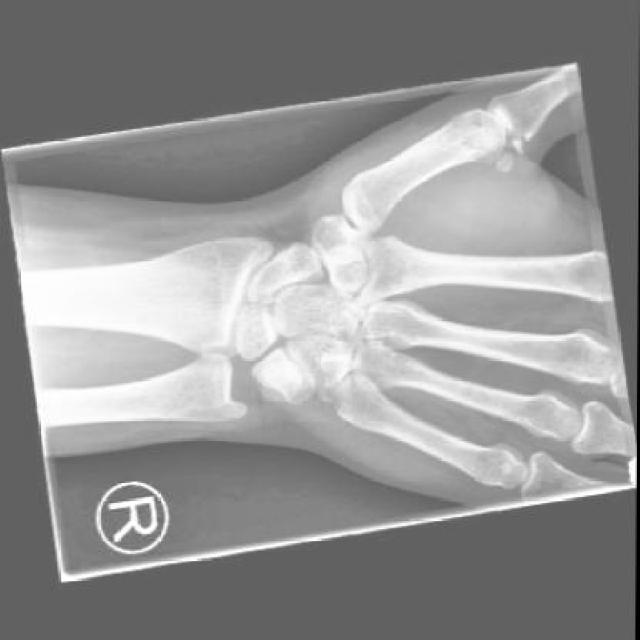Fracture: (508, 131, 535, 157)
